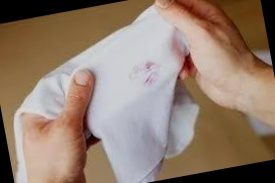lipstick: (123, 56, 161, 91)
